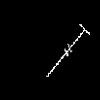treble_crochet: (48, 25, 89, 75)
